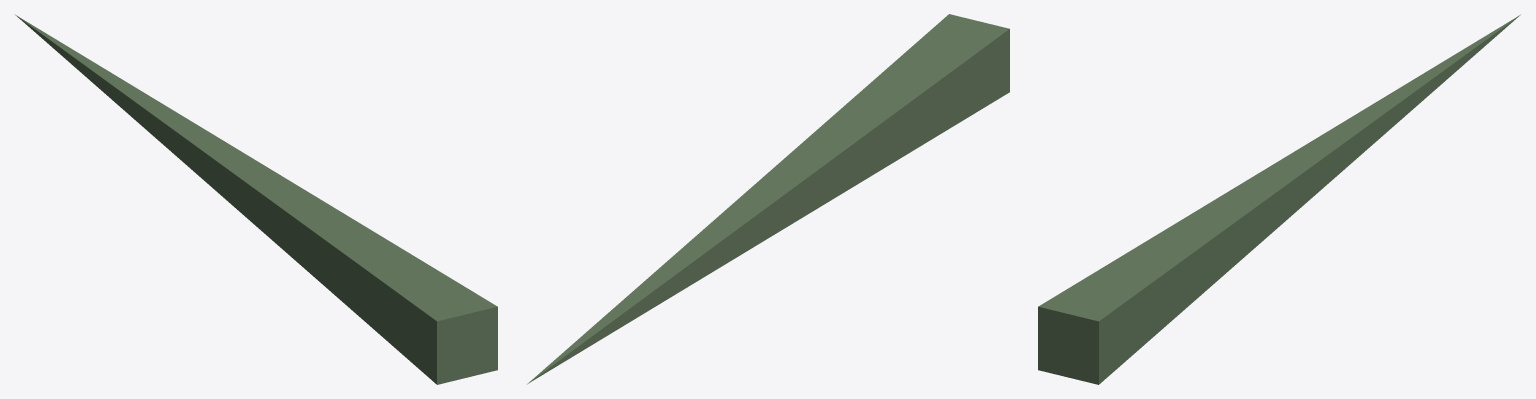
File: Grass.fbx
The picture shows the model from 3 angles, left to right: view 1: azimuth 30°, elevation 25°; view 2: azimuth 150°, elevation 25°; view 3: azimuth 330°, elevation 25°; orthographic projection.
Visible parts, largest first — view 1: Grass; view 2: Grass; view 3: Grass.
Boxes of the visible parts, x1,y1,x2,y2 form: Grass: [15, 14, 497, 384]; Grass: [527, 14, 1009, 384]; Grass: [1038, 14, 1520, 384].
Size of the model in its own units: 2.05 by 2.05 by 26.53.
